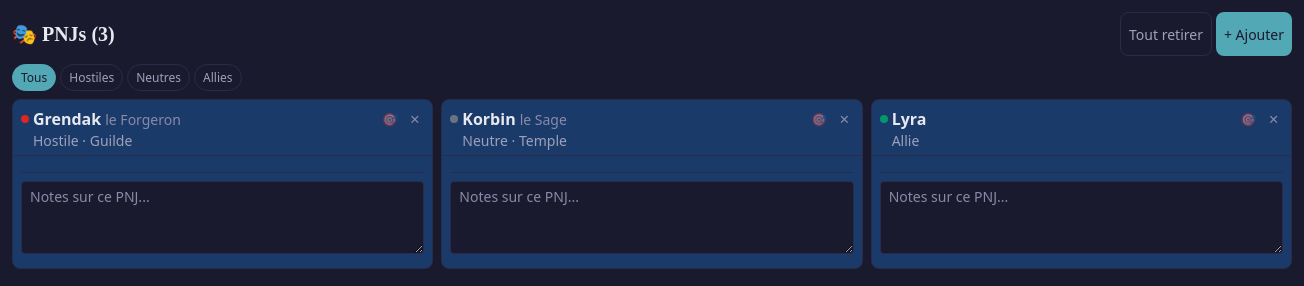
Test: NpcGroupPanel › tri et filtre PNJs › filtre par statut au clic
# Cliquer sur le filtre "Hostiles"
Click the radio button with class "npc-group__filter-btn" showing "Hostiles" at {"x": 92, "y": 78}, box 60,64 -> 123,91
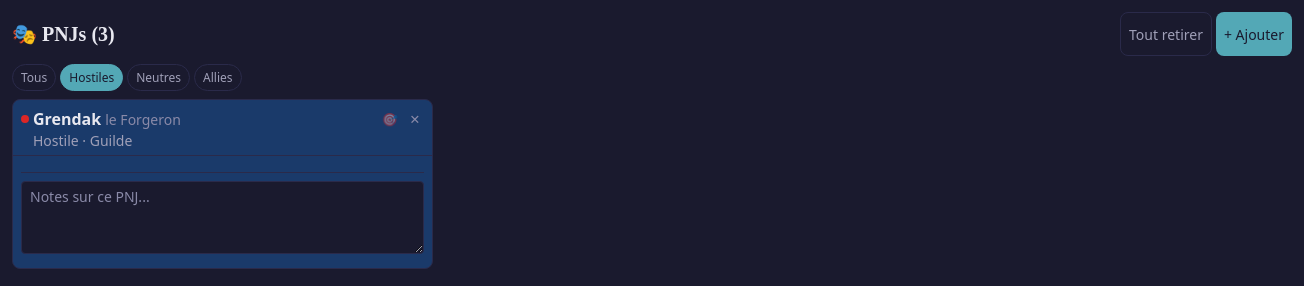
Expected: the number of list items is 1, 12,99 -> 433,269
Now the text "Lyra" is gone
Now the text "Korbin" is gone
